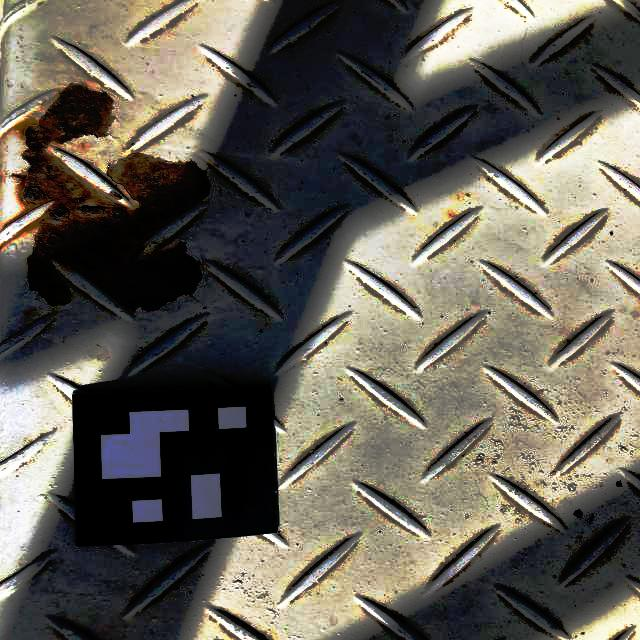Corrosion: (0, 81, 213, 313)
